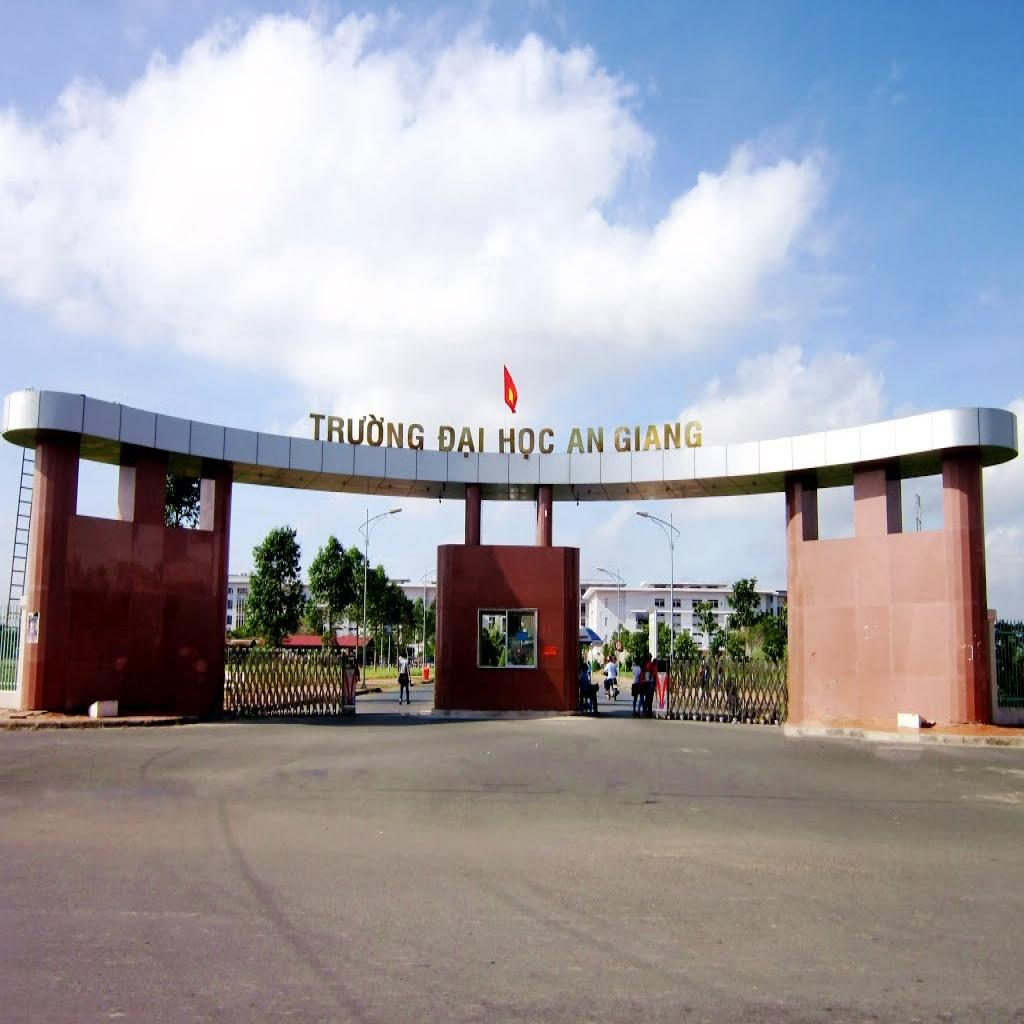text: (306, 410, 429, 454), (495, 426, 558, 462), (436, 420, 488, 460), (562, 424, 607, 459)
